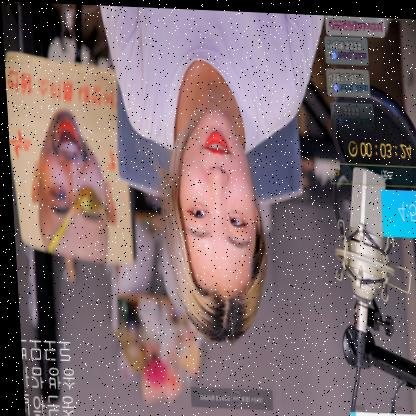streamer: (96, 3, 345, 346)
